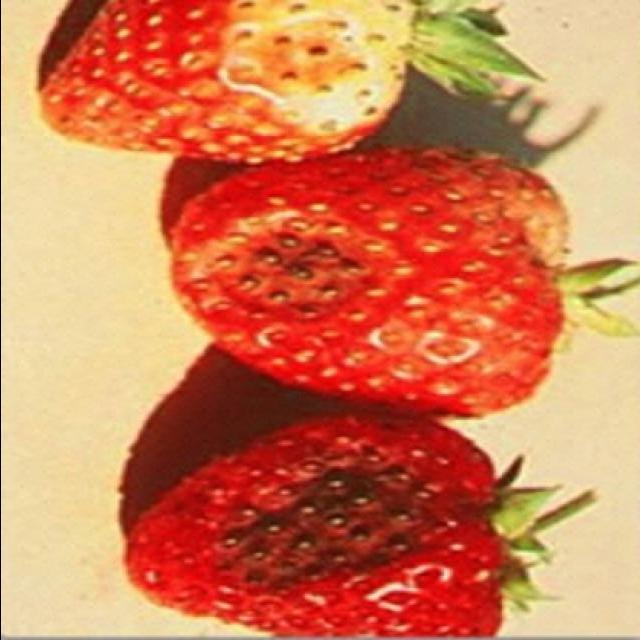Anthracnose Fruit Rot: (214, 443, 455, 601), (209, 0, 407, 151), (192, 206, 387, 328)
